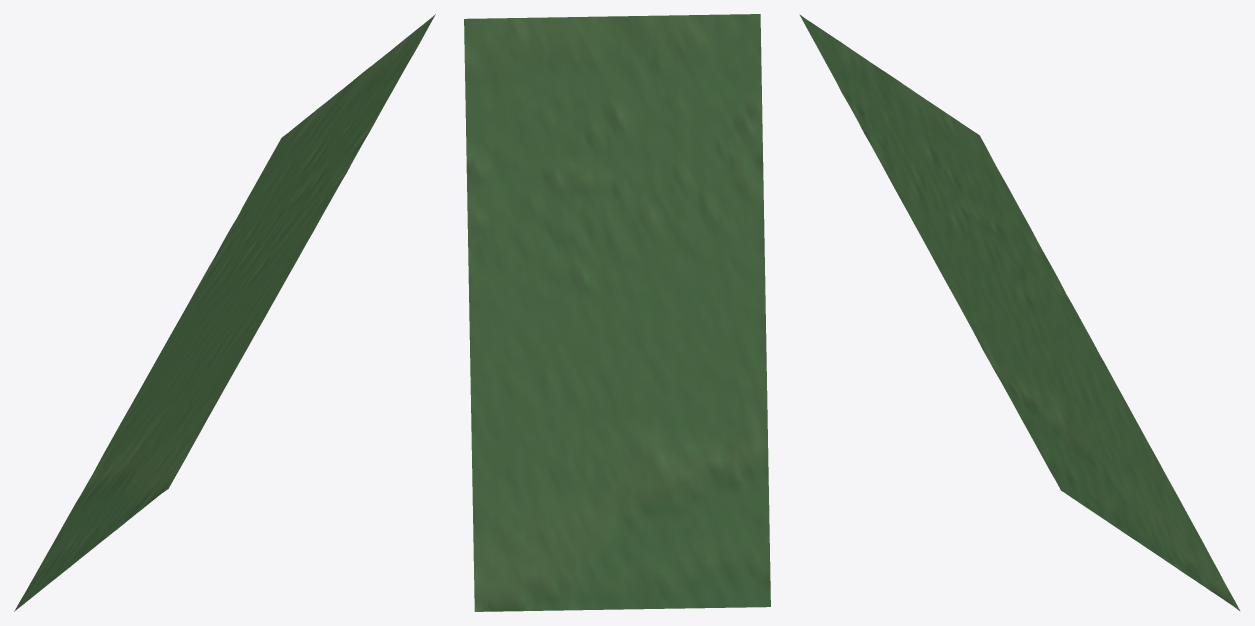
The picture shows the model from 3 angles, left to right: view 1: azimuth 30°, elevation 25°; view 2: azimuth 150°, elevation 25°; view 3: azimuth 270°, elevation 25°; orthographic projection. The views are drawn at different scales.
Size of the model in its own units: 9926 by 13258 by 9711.
